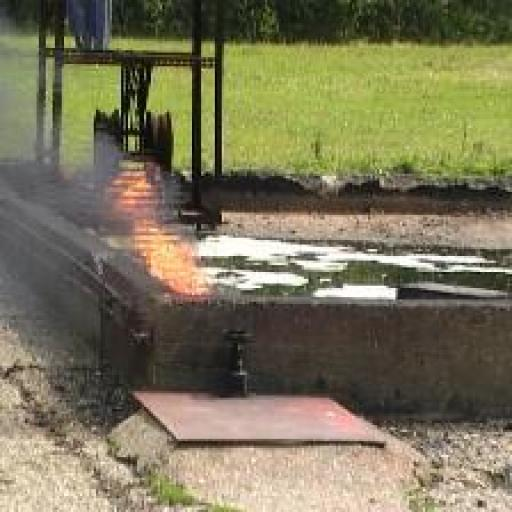fire: (111, 171, 216, 292)
